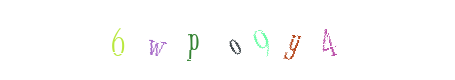4: (253, 0, 333, 80)
6: (77, 0, 157, 80)
9: (199, 0, 279, 80)
O: (187, 0, 267, 80)
P: (174, 0, 254, 80)
W: (171, 0, 251, 80)
Y: (213, 0, 293, 80)
